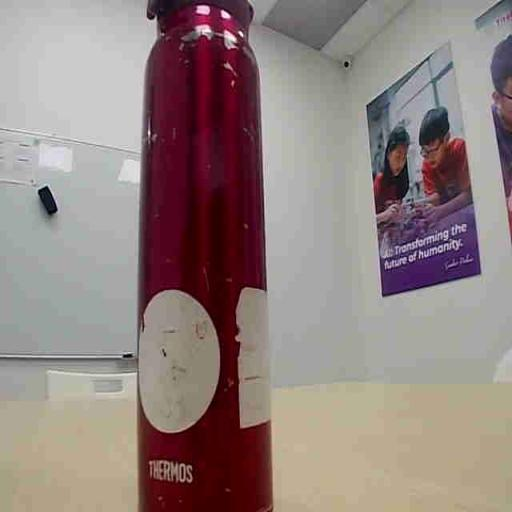bottle: (139, 0, 272, 511)
